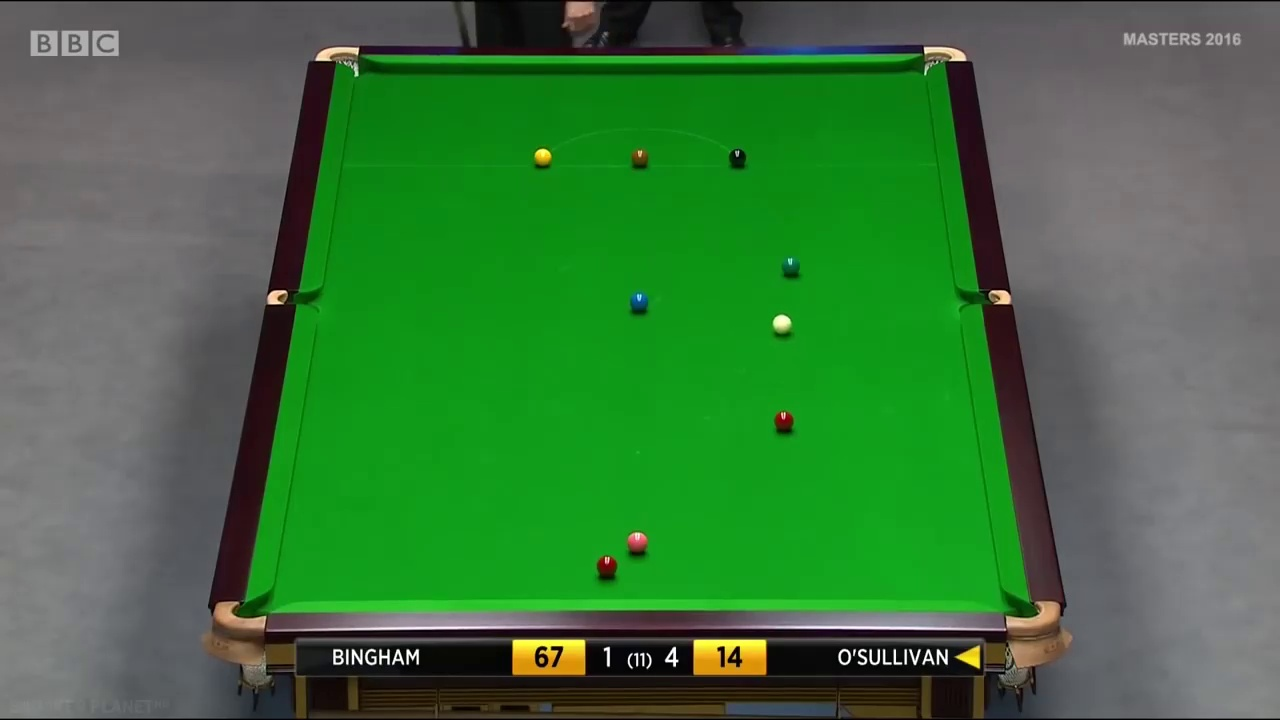ball: (625, 530, 649, 554), (628, 290, 651, 313), (596, 553, 618, 575), (769, 314, 792, 335), (727, 146, 747, 167), (531, 147, 553, 166), (780, 255, 800, 275), (774, 411, 793, 431), (630, 148, 649, 165)
